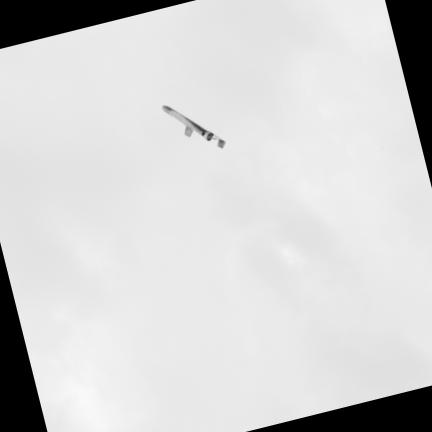Shahed: (161, 104, 226, 147)
